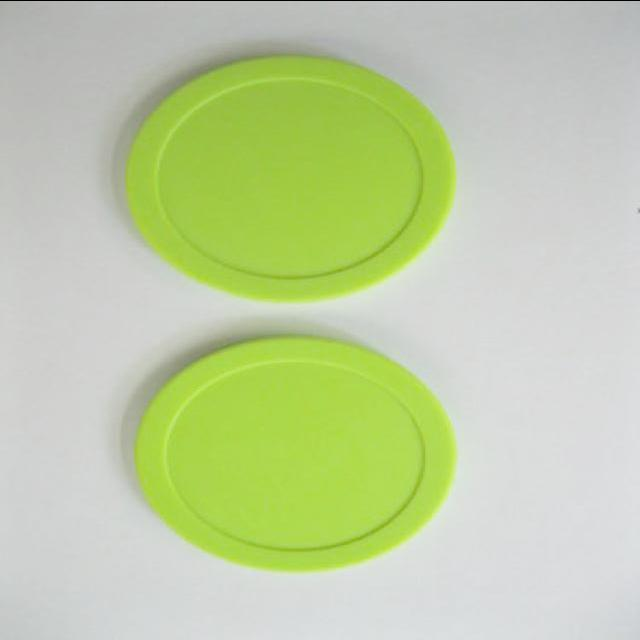chip: (127, 57, 459, 305), (139, 339, 453, 570)
